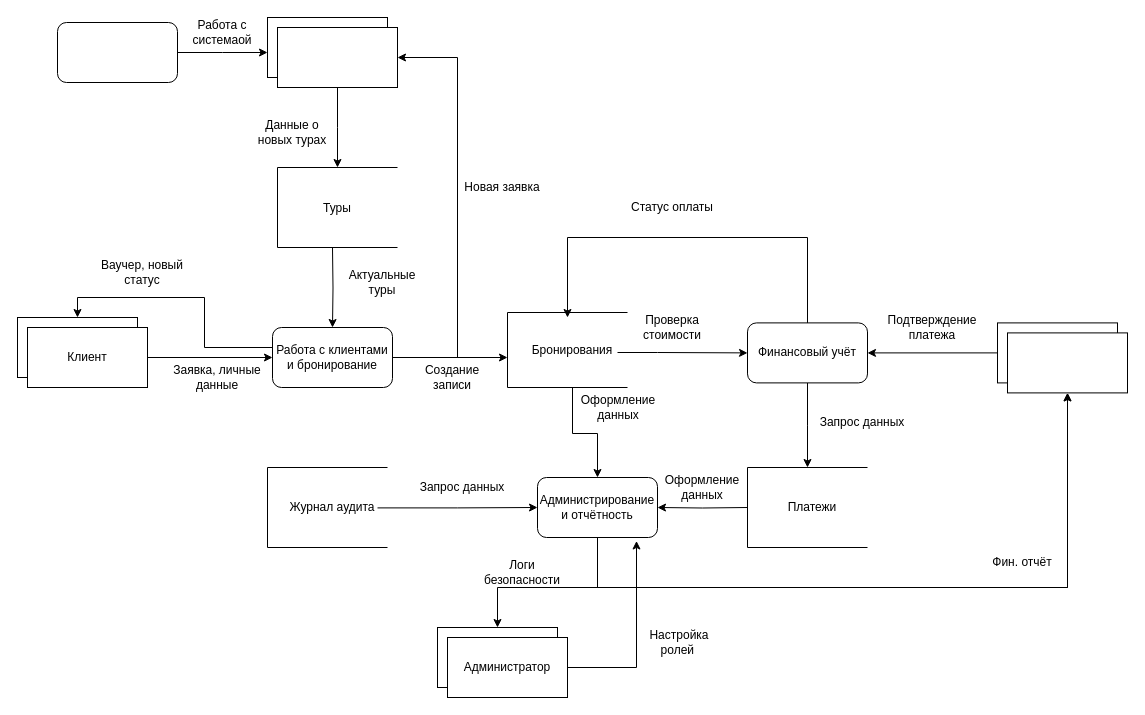
Some shapes in this 1145 by 715 pixel diagram are drawn without their labels. The centre of each missing label's shape, as x and y in pixels:
"Менеджер" belongs at (337,57).
"Управление турами" belongs at (117,52).
"Финансовый специалист" belongs at (1067,362).
